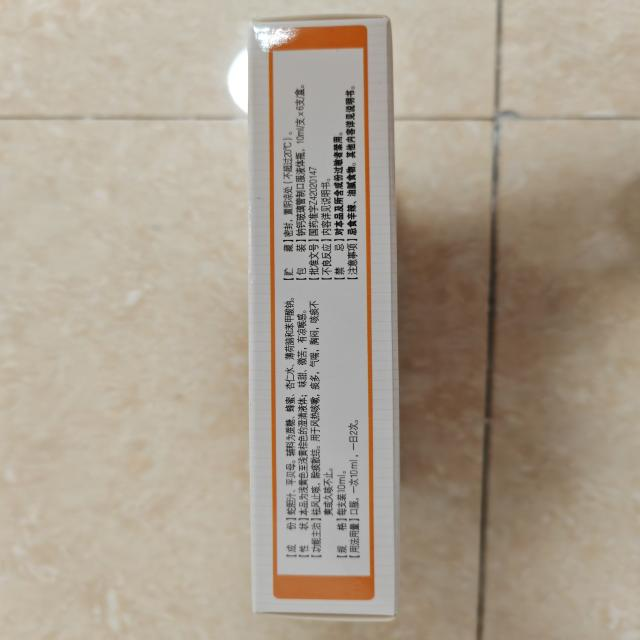box: (228, 10, 417, 634)
